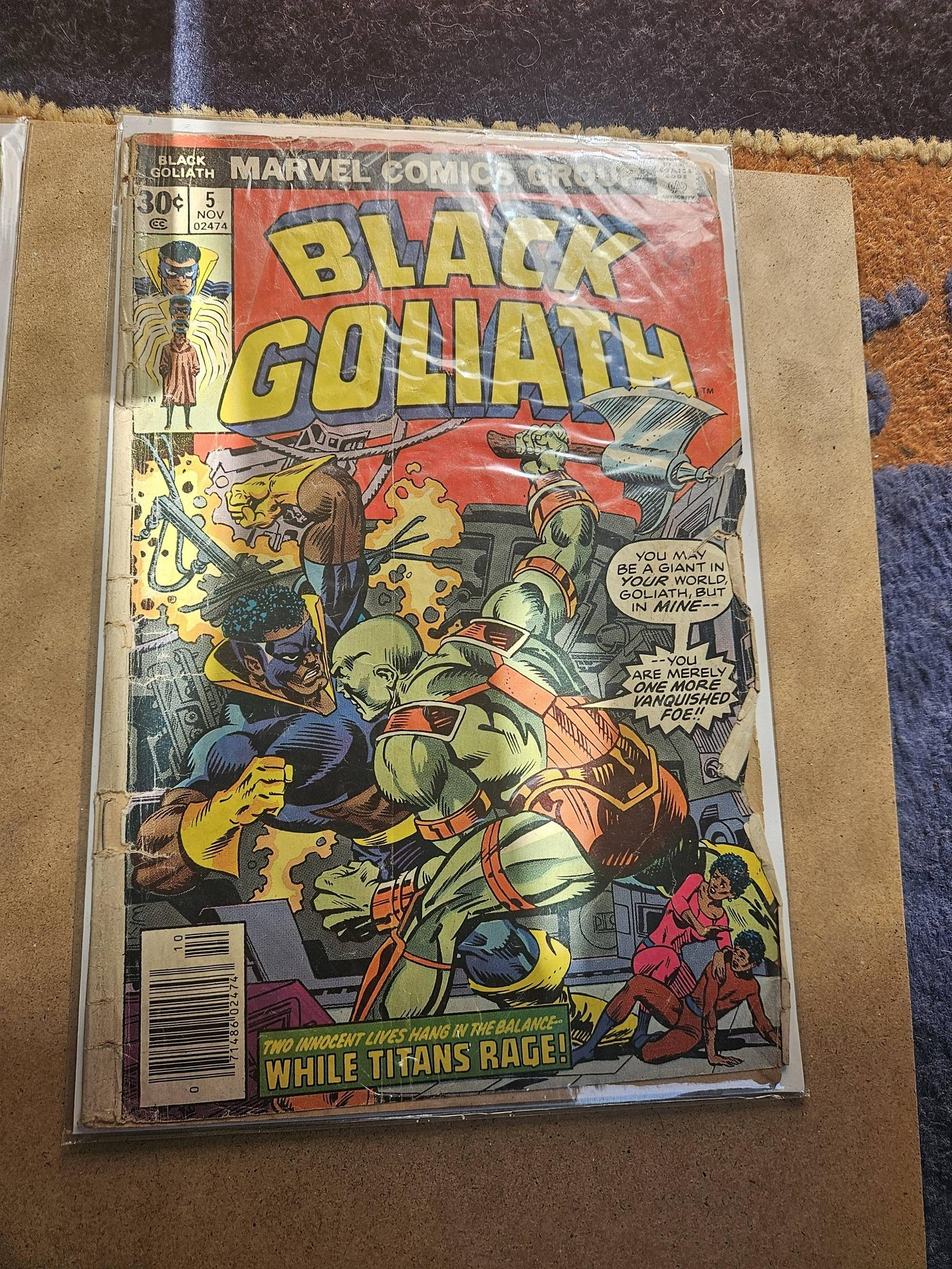comic: (75, 117, 840, 1159)
